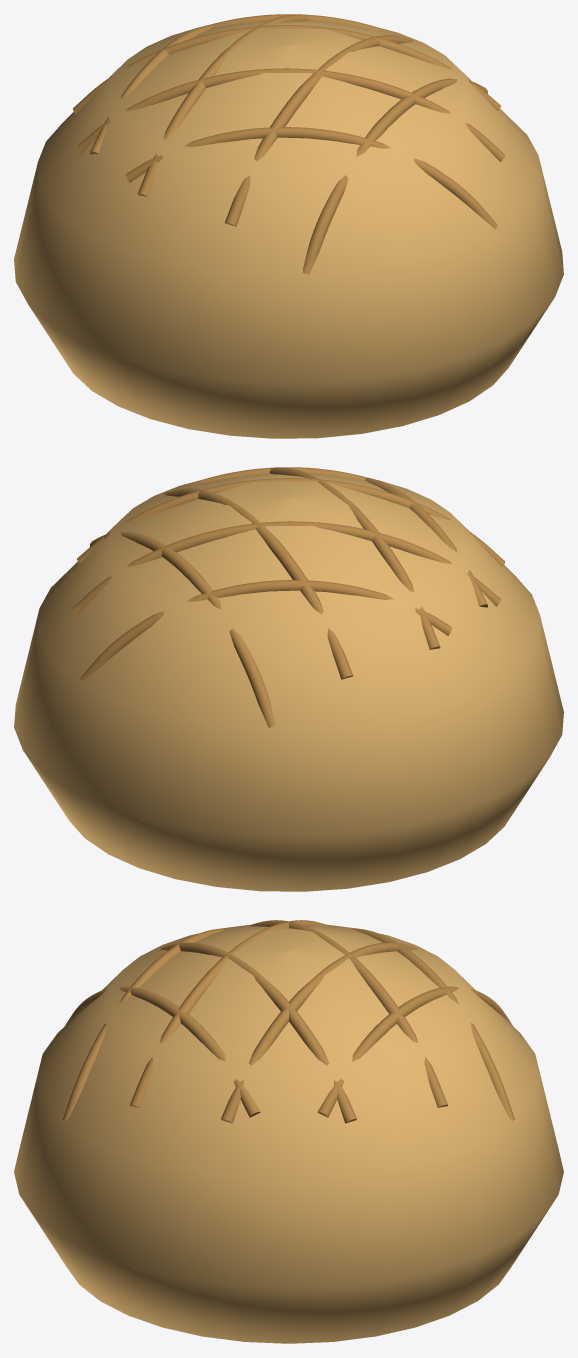
The model's file is melon_bread.glb.
The picture shows the model from 3 angles, top to bottom: view 1: azimuth 30°, elevation 25°; view 2: azimuth 150°, elevation 25°; view 3: azimuth 270°, elevation 25°; orthographic projection.
Parts seen in each view (by area): view 1: melon_bread_Melon_bread_crust, melon_bread_Bread_scoring; view 2: melon_bread_Melon_bread_crust, melon_bread_Bread_scoring; view 3: melon_bread_Melon_bread_crust, melon_bread_Bread_scoring.
Part boxes in pixels (x1,y1,x2,y2): melon_bread_Melon_bread_crust: (14, 21, 563, 438); melon_bread_Bread_scoring: (73, 14, 504, 274); melon_bread_Melon_bread_crust: (14, 474, 563, 891); melon_bread_Bread_scoring: (73, 467, 504, 727); melon_bread_Melon_bread_crust: (14, 924, 563, 1343); melon_bread_Bread_scoring: (63, 920, 514, 1123).
Size of the model in its own units: 0.23 by 0.137 by 0.23.
